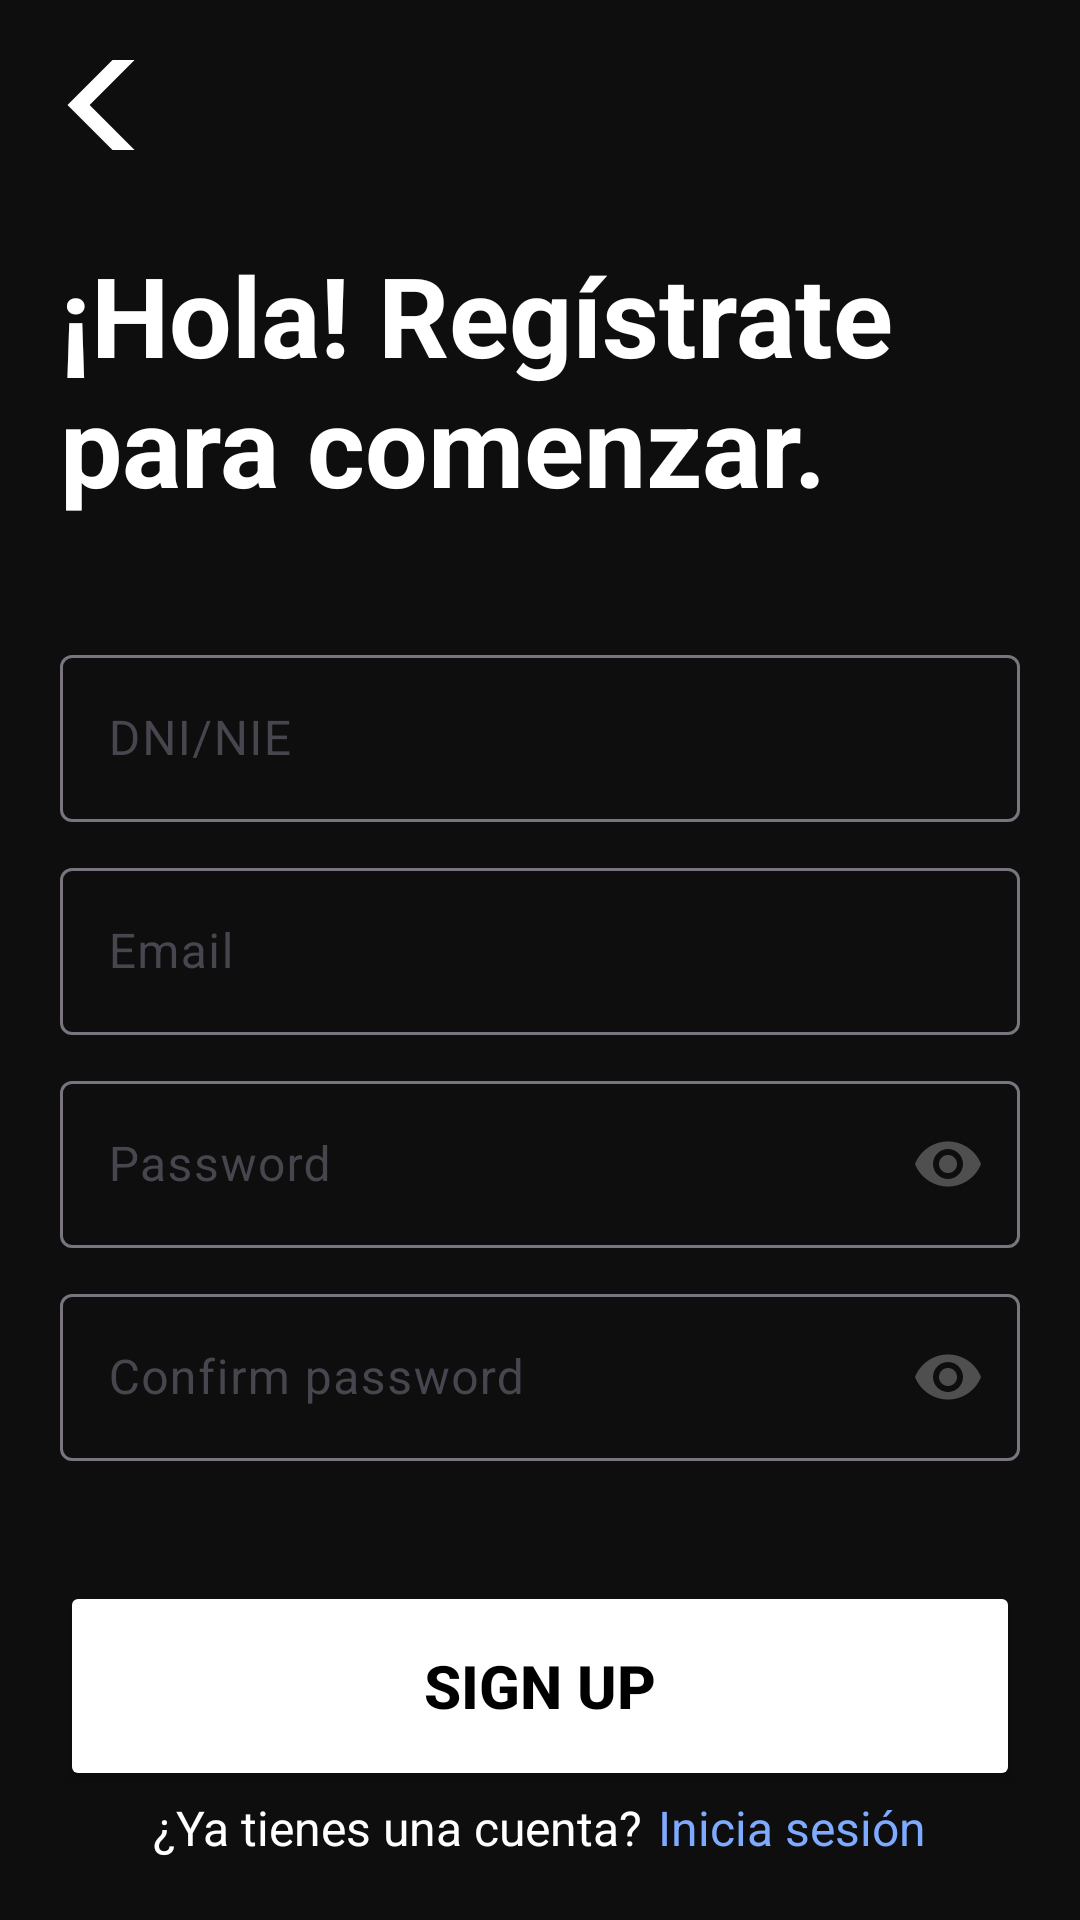

Icon click points for this 1080px x 1920px phone screenshot, format point (x, y):
Go back: point (101, 105)
